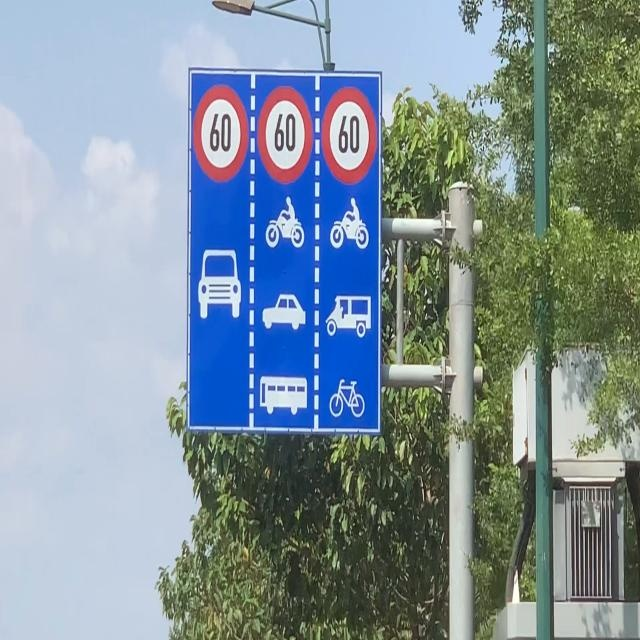bien_cam: (322, 86, 378, 186), (193, 84, 249, 182), (258, 85, 313, 184)
